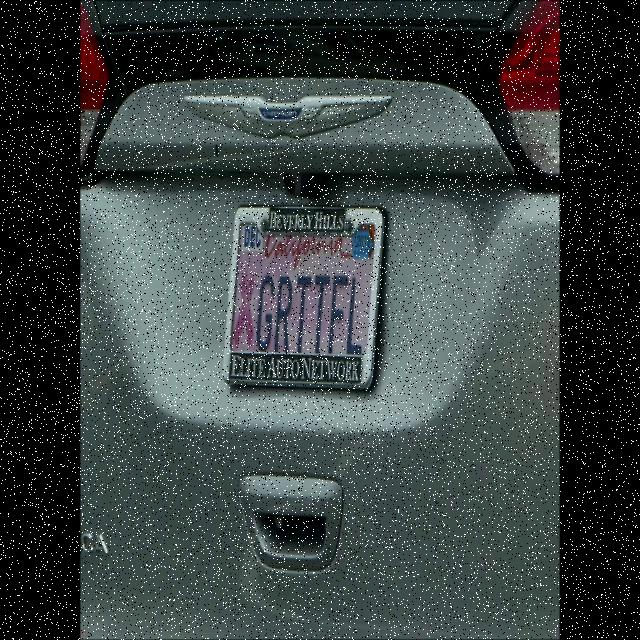licenseplate: (226, 207, 376, 394)
